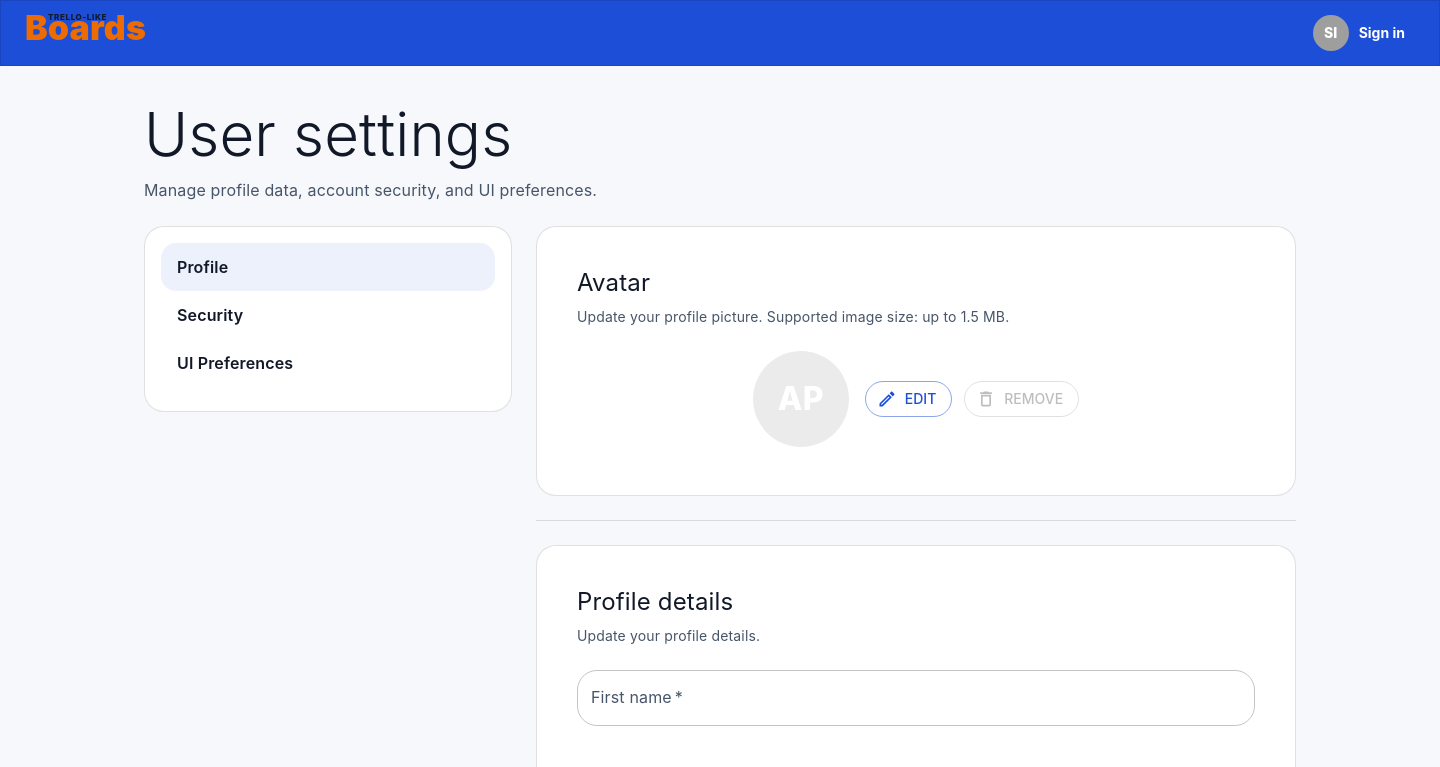
Scenario: UserSettingsPage › switches sections through route navigation from the sidebar
The image size is (1440, 767).
Click the link "UI Preferences" at (235, 363), box left=177, top=353, right=293, bottom=373
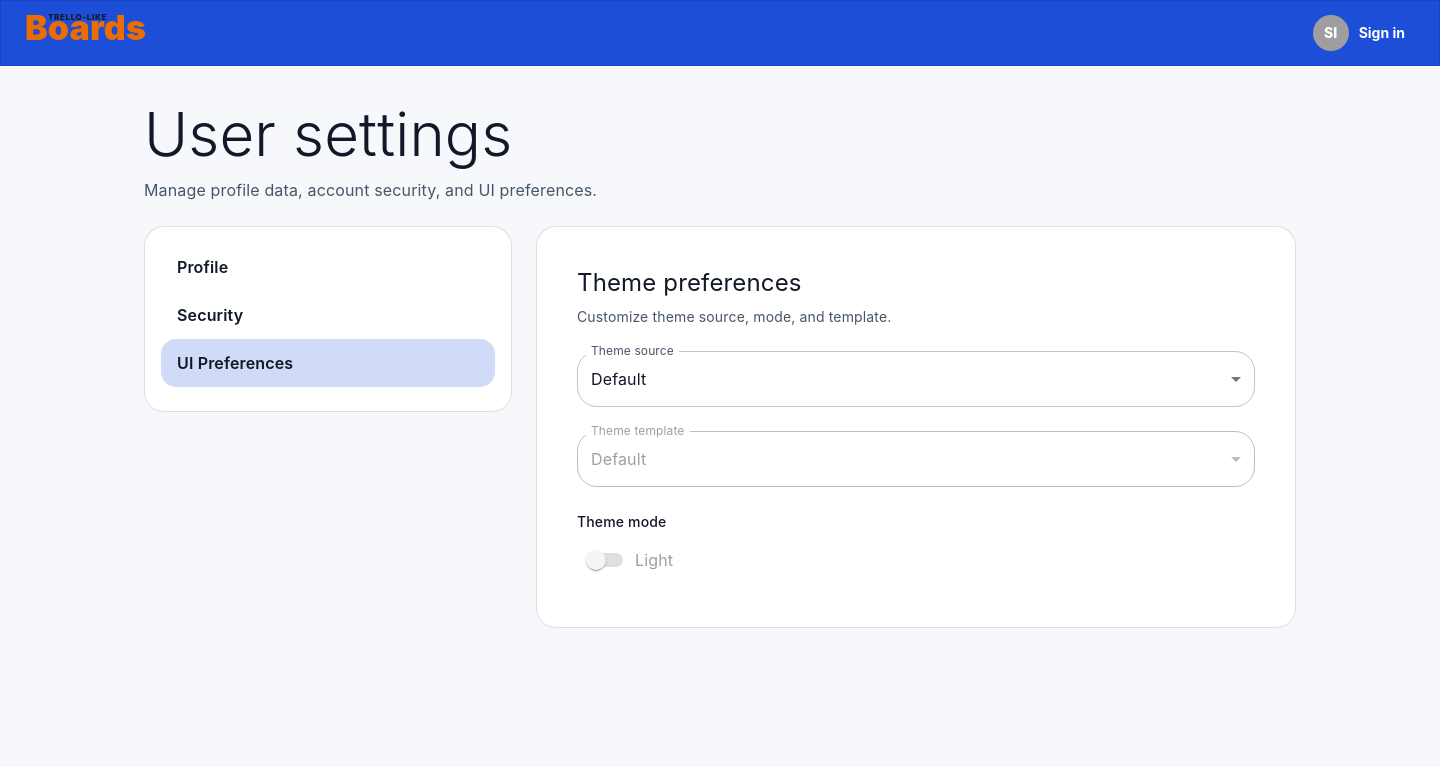
Expected: the heading "Theme preferences" is shown, left=577, top=268, right=802, bottom=297
Expected: the dropdown named "Theme source" is shown, left=591, top=368, right=646, bottom=388
Expected: the switch labelled "Light" is disabled, left=586, top=550, right=673, bottom=570
